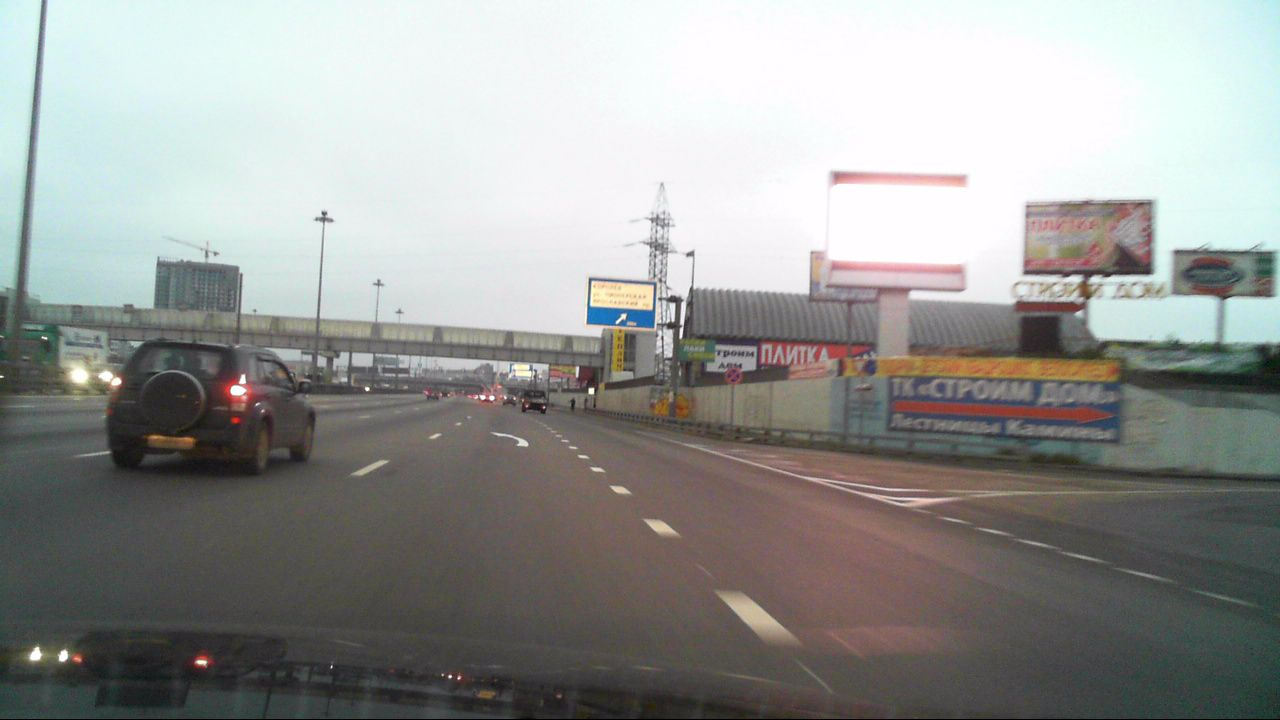No Parking: (725, 367, 742, 384)
